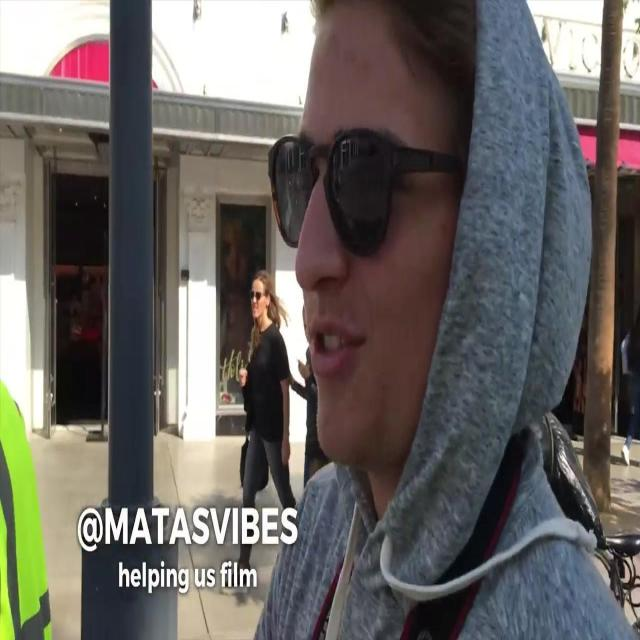Vest: (0, 379, 54, 639)
